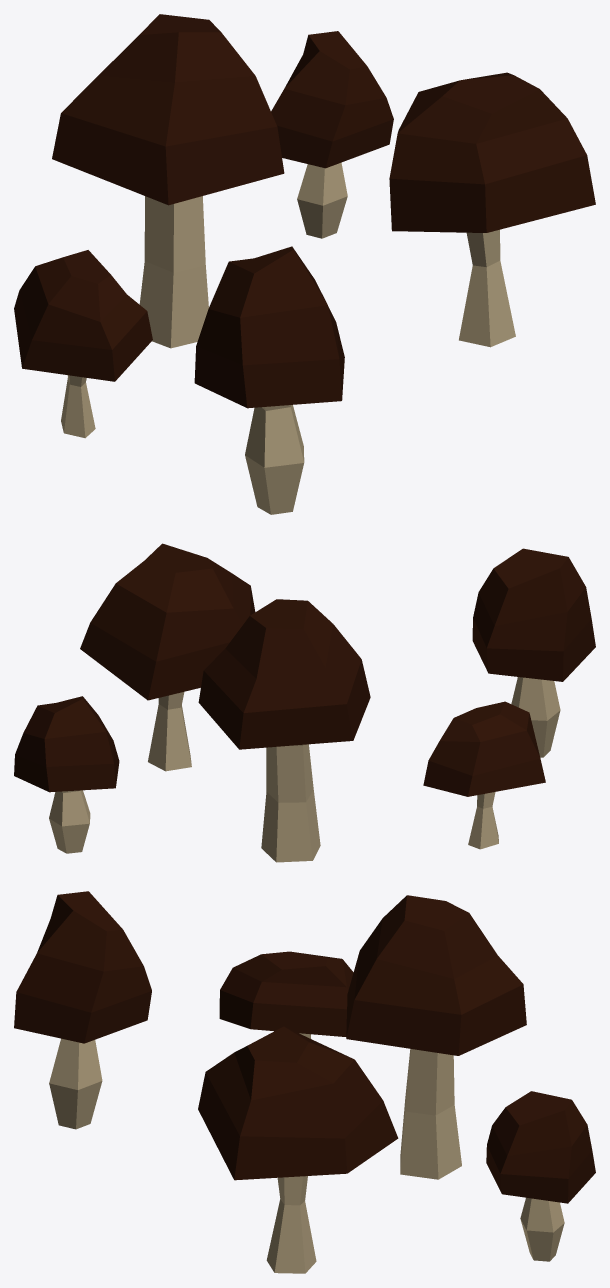
Rendered from mushrooms.fbx.
The picture shows the model from 3 angles, top to bottom: view 1: azimuth 30°, elevation 25°; view 2: azimuth 150°, elevation 25°; view 3: azimuth 270°, elevation 25°; orthographic projection. The views are drawn at different scales.
Visible parts, largest first — view 1: mushrooms_LOD0; view 2: mushrooms_LOD0; view 3: mushrooms_LOD0.
Boxes of the visible parts, x1,y1,x2,y2 form: mushrooms_LOD0: [14, 14, 595, 514]; mushrooms_LOD0: [14, 543, 595, 862]; mushrooms_LOD0: [14, 891, 595, 1273].
Size of what is drawn, in the model's own units: 88.97 by 47.92 by 94.14.
